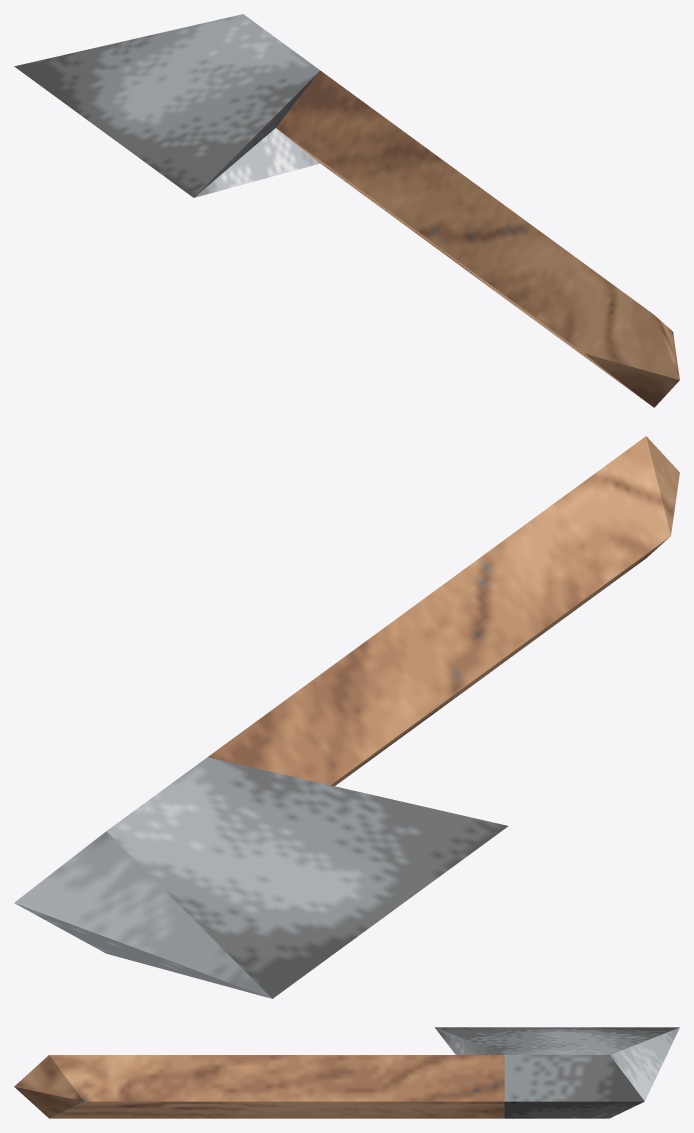
Rendered from Hatchet.fbx.
3 renders of one model, top to bottom at view 1: azimuth 30°, elevation 25°; view 2: azimuth 150°, elevation 25°; view 3: azimuth 270°, elevation 25°, orthographic. The views are drawn at different scales.
Parts seen in each view (by area): view 1: Hatchet; view 2: Hatchet; view 3: Hatchet.
Part boxes in pixels (bbox=[...]): Hatchet: bbox=[14, 14, 679, 407]; Hatchet: bbox=[14, 436, 679, 998]; Hatchet: bbox=[14, 1027, 679, 1118].
Bounding box in the file's own units: 50 × 20 × 190.
1 material, 1 textured.
